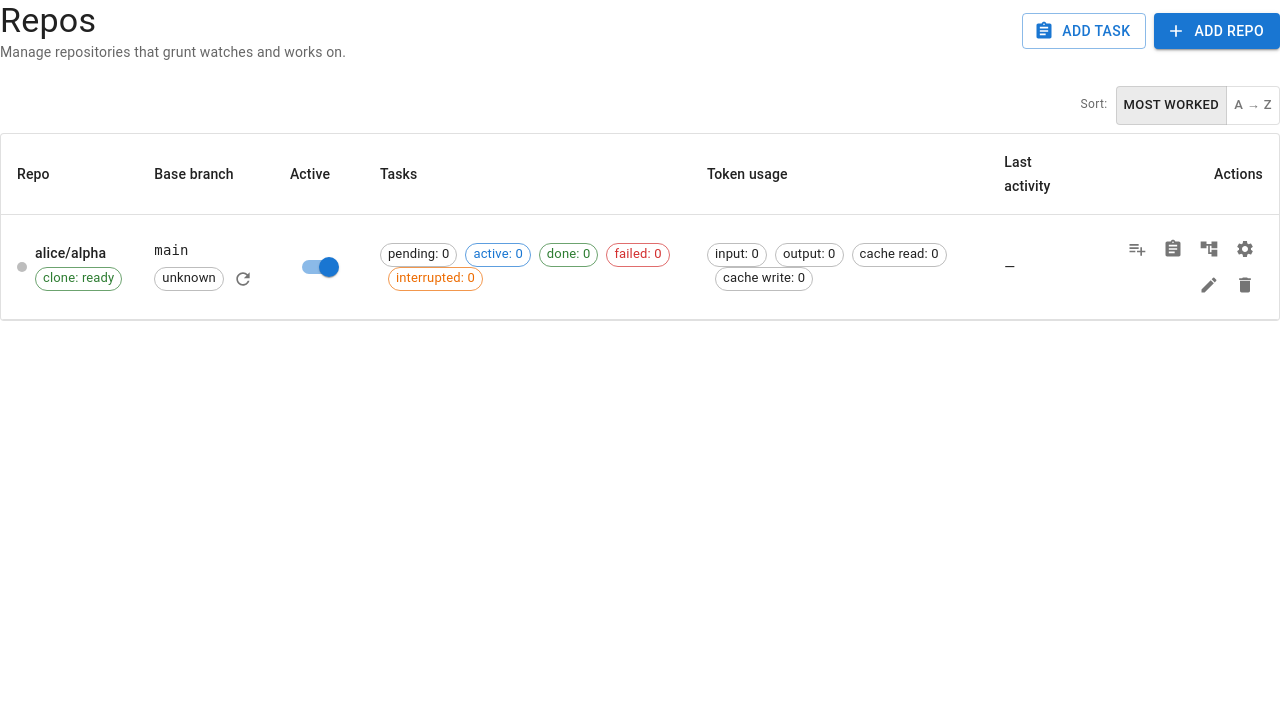
ReposPage › edits an existing repo and PATCHes the changes
Click the button named "edit alice/alpha".
click(1209, 285)  # box [1191,267,1227,303]
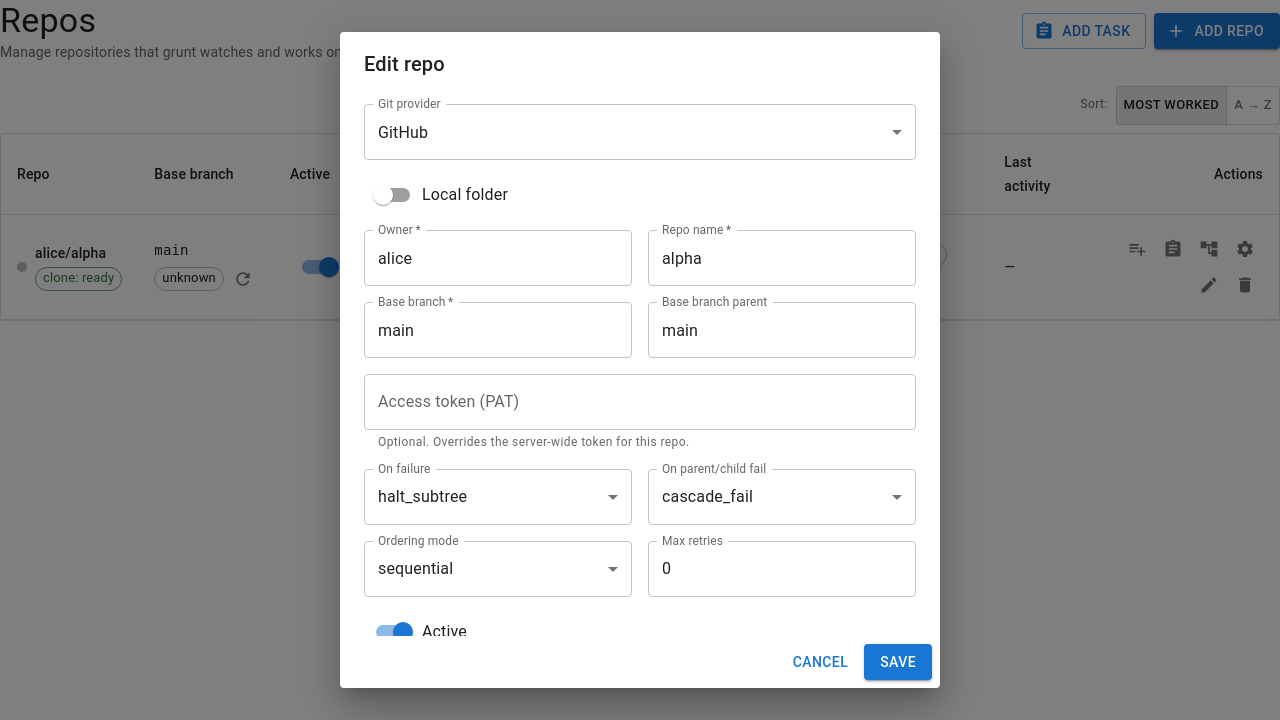
Replace the text in the field labelled "Base branch *" with "develop" at coordinates (498, 330), box [364,302,632,358]
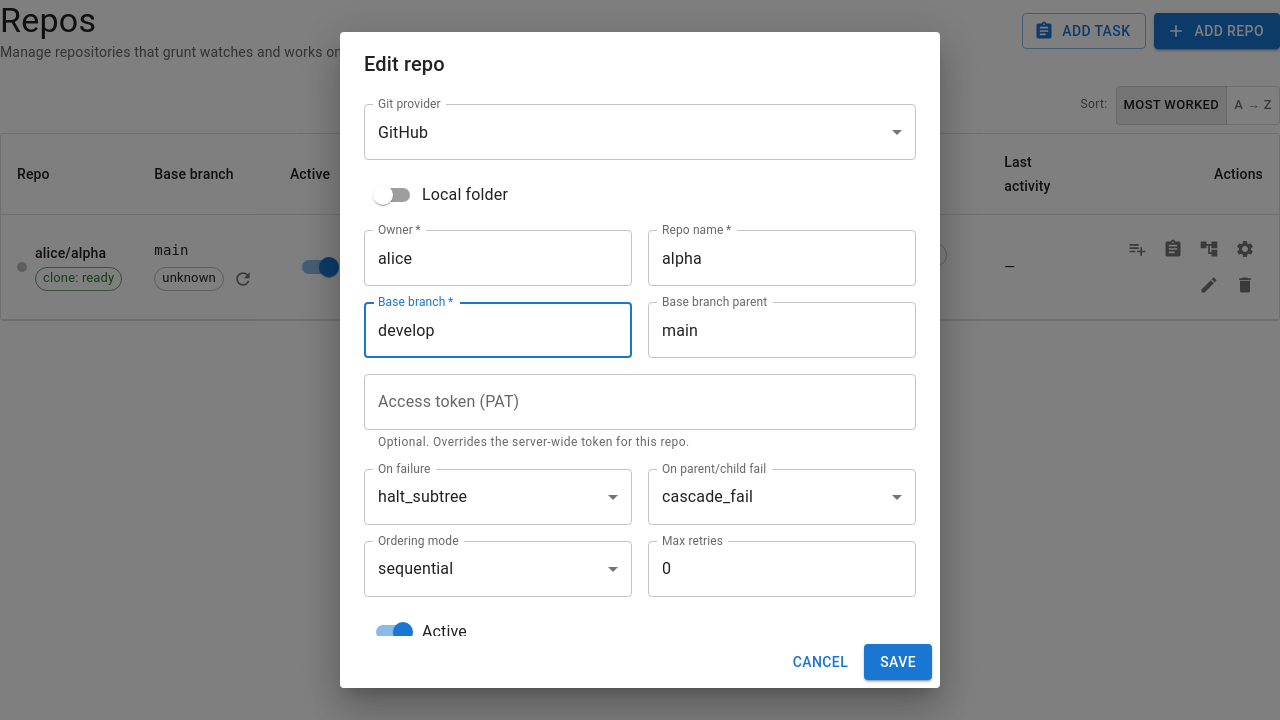
Click the button "Save".
click(898, 662)  # box [864,644,932,680]
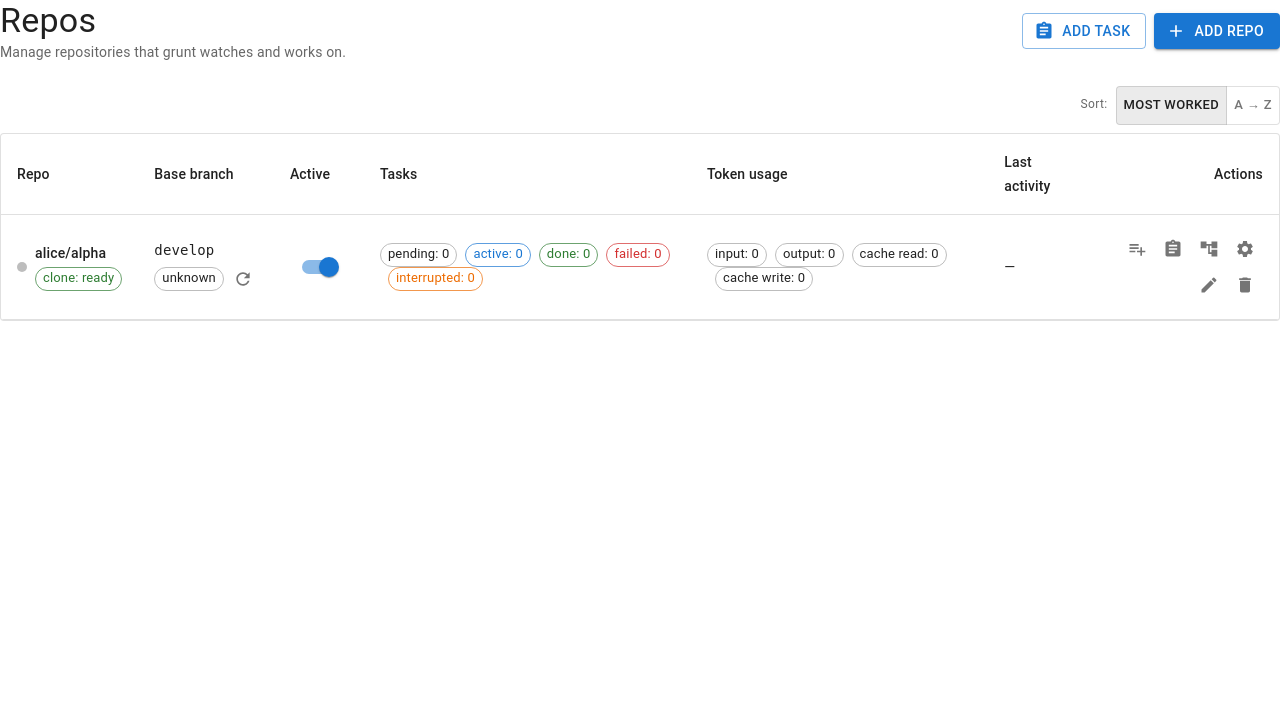
Result: the text "develop" is shown at [154,240,214,260]
